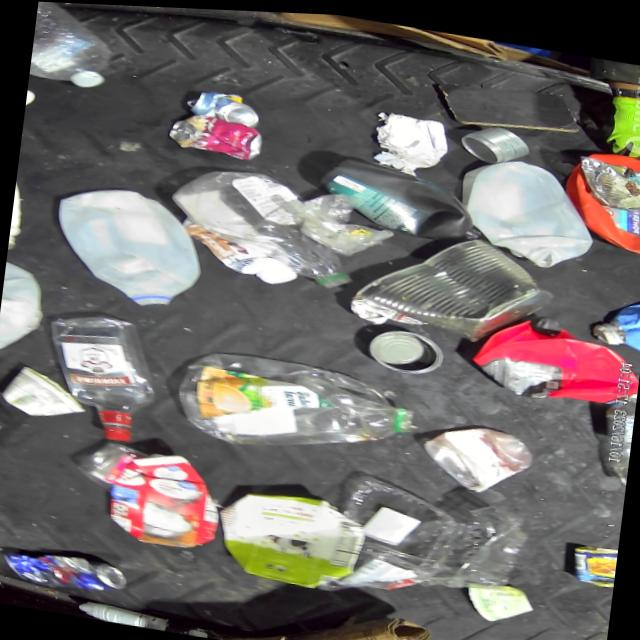can: (350, 215, 559, 349), (417, 412, 536, 497), (0, 542, 129, 599), (164, 107, 266, 161), (363, 320, 447, 376), (456, 115, 532, 164), (182, 83, 262, 127), (566, 535, 618, 584)
milk_jug: (43, 175, 210, 314), (449, 145, 601, 270)
non_white_jug: (467, 299, 640, 409), (210, 480, 368, 592), (309, 145, 487, 243), (102, 442, 226, 553), (557, 139, 640, 251)
plastic_bottle: (168, 337, 420, 472), (160, 155, 362, 290), (27, 1, 121, 94)
